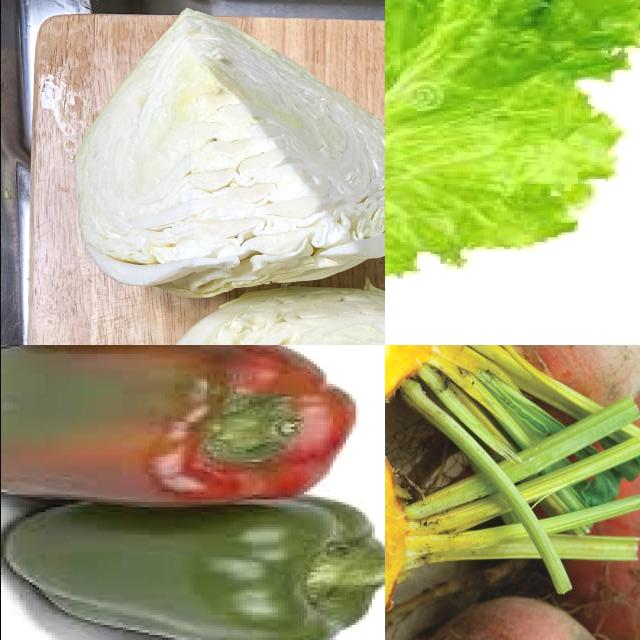beet: (418, 346, 640, 442), (566, 379, 640, 640), (391, 597, 629, 640)
bell_pepper: (1, 346, 368, 525), (1, 473, 385, 640)
cabbage: (80, 8, 385, 302)
